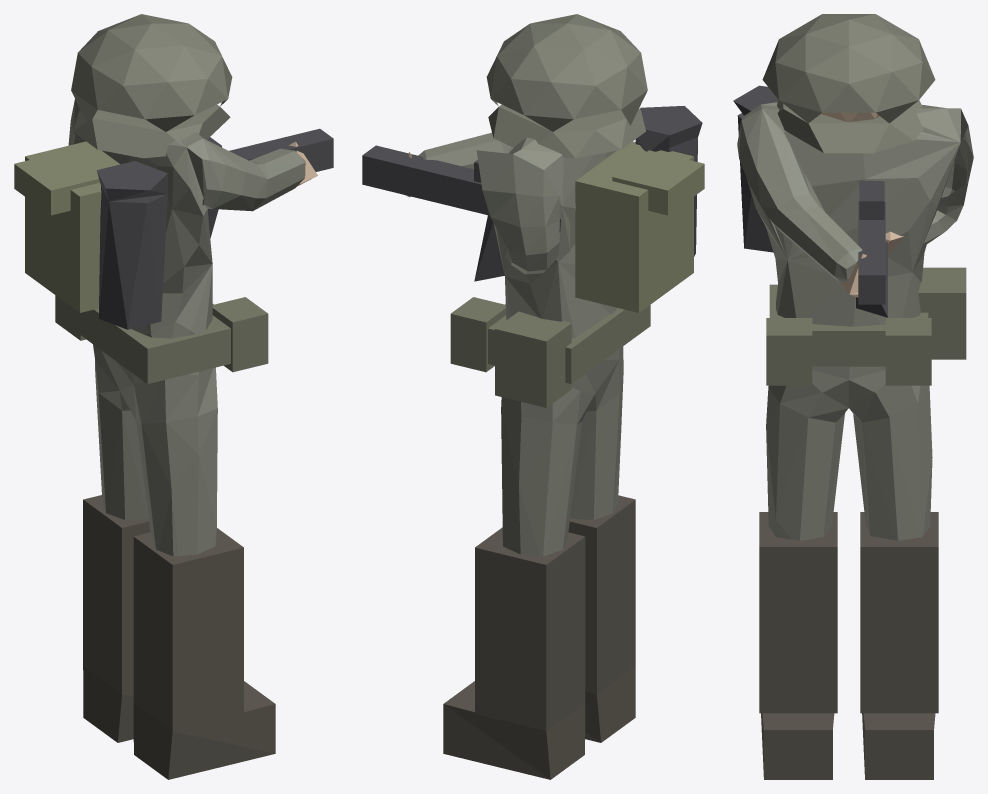
Rendered from trooper_germany.lod1.glb.
3 renders of one model, left to right at view 1: azimuth 30°, elevation 25°; view 2: azimuth 150°, elevation 25°; view 3: azimuth 270°, elevation 25°, orthographic.
Bounding box in the file's own units: 0.77 × 1.73 × 0.5236.
